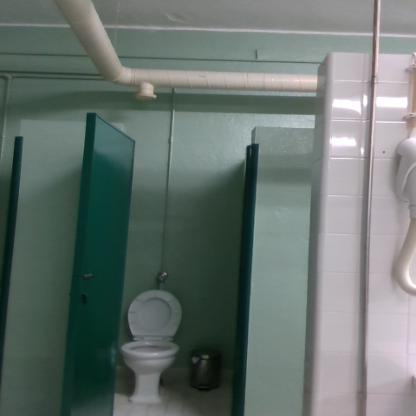open: (64, 108, 285, 416)
